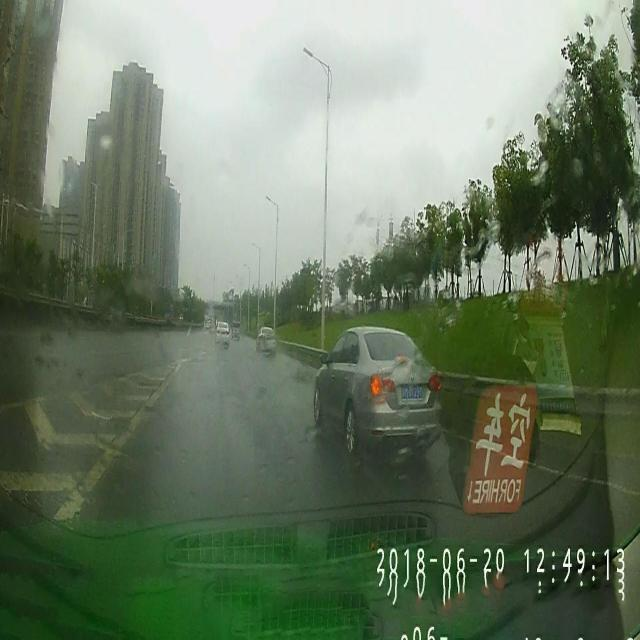car: (314, 324, 439, 450), (255, 326, 278, 353), (214, 322, 229, 347), (232, 321, 240, 338)
